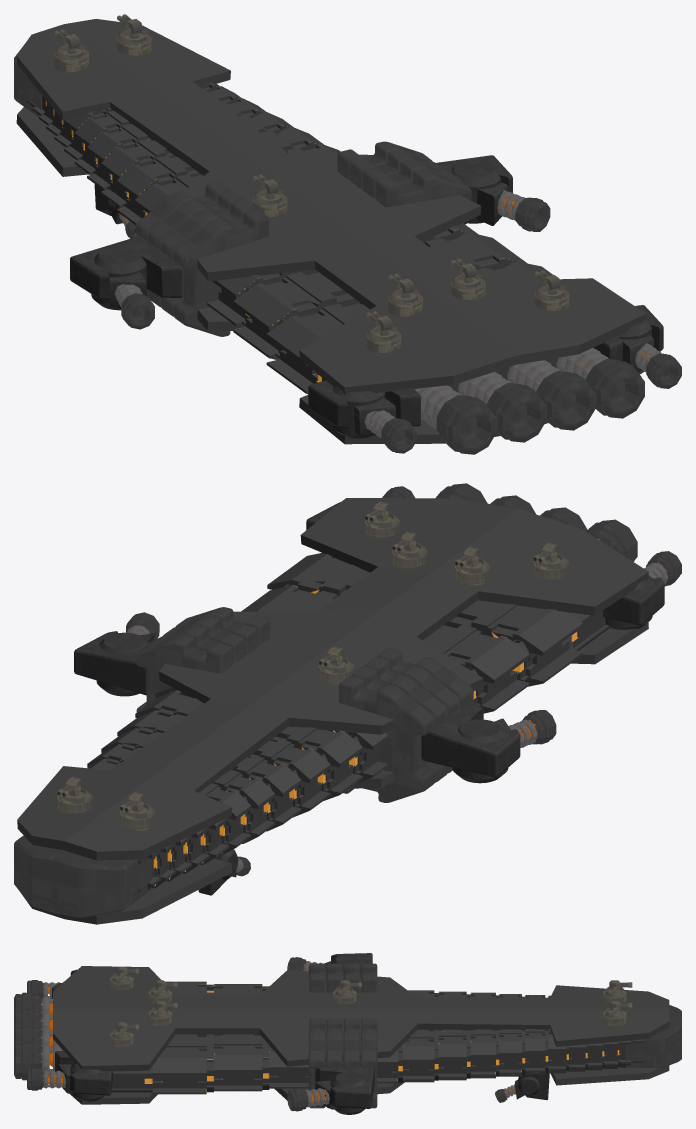
Rendered from colony.glb.
The picture shows the model from 3 angles, top to bottom: view 1: azimuth 30°, elevation 25°; view 2: azimuth 150°, elevation 25°; view 3: azimuth 270°, elevation 25°; orthographic projection. The views are drawn at different scales.
Parts seen in each view (by area): view 1: defaultMaterial (×6); view 2: defaultMaterial (×6); view 3: defaultMaterial (×6).
Part boxes in pixels (bbox=[...]): defaultMaterial (×6): bbox=[14, 14, 681, 454]; defaultMaterial (×6): bbox=[14, 483, 681, 924]; defaultMaterial (×6): bbox=[14, 953, 681, 1114].
Size of the model in its own units: 0.5554 by 0.1707 by 1.11.
6 materials, 4 textured.
